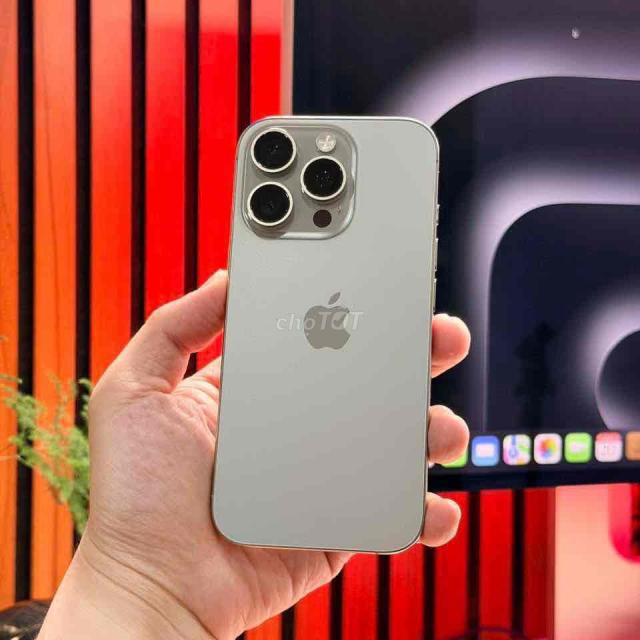gen_16: (199, 108, 441, 557)
